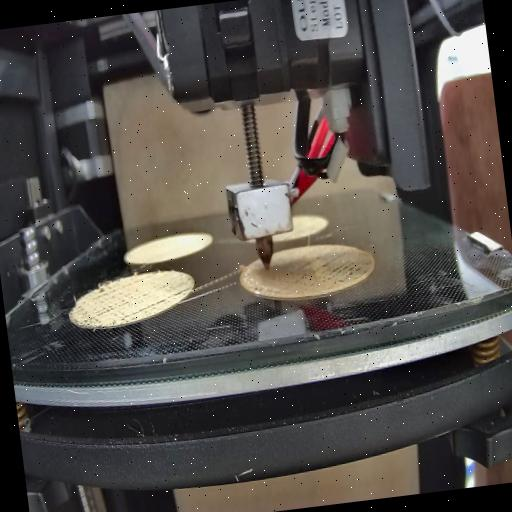under_extrusion: (69, 274, 169, 326), (292, 245, 373, 295), (250, 276, 284, 301), (167, 281, 195, 307)
